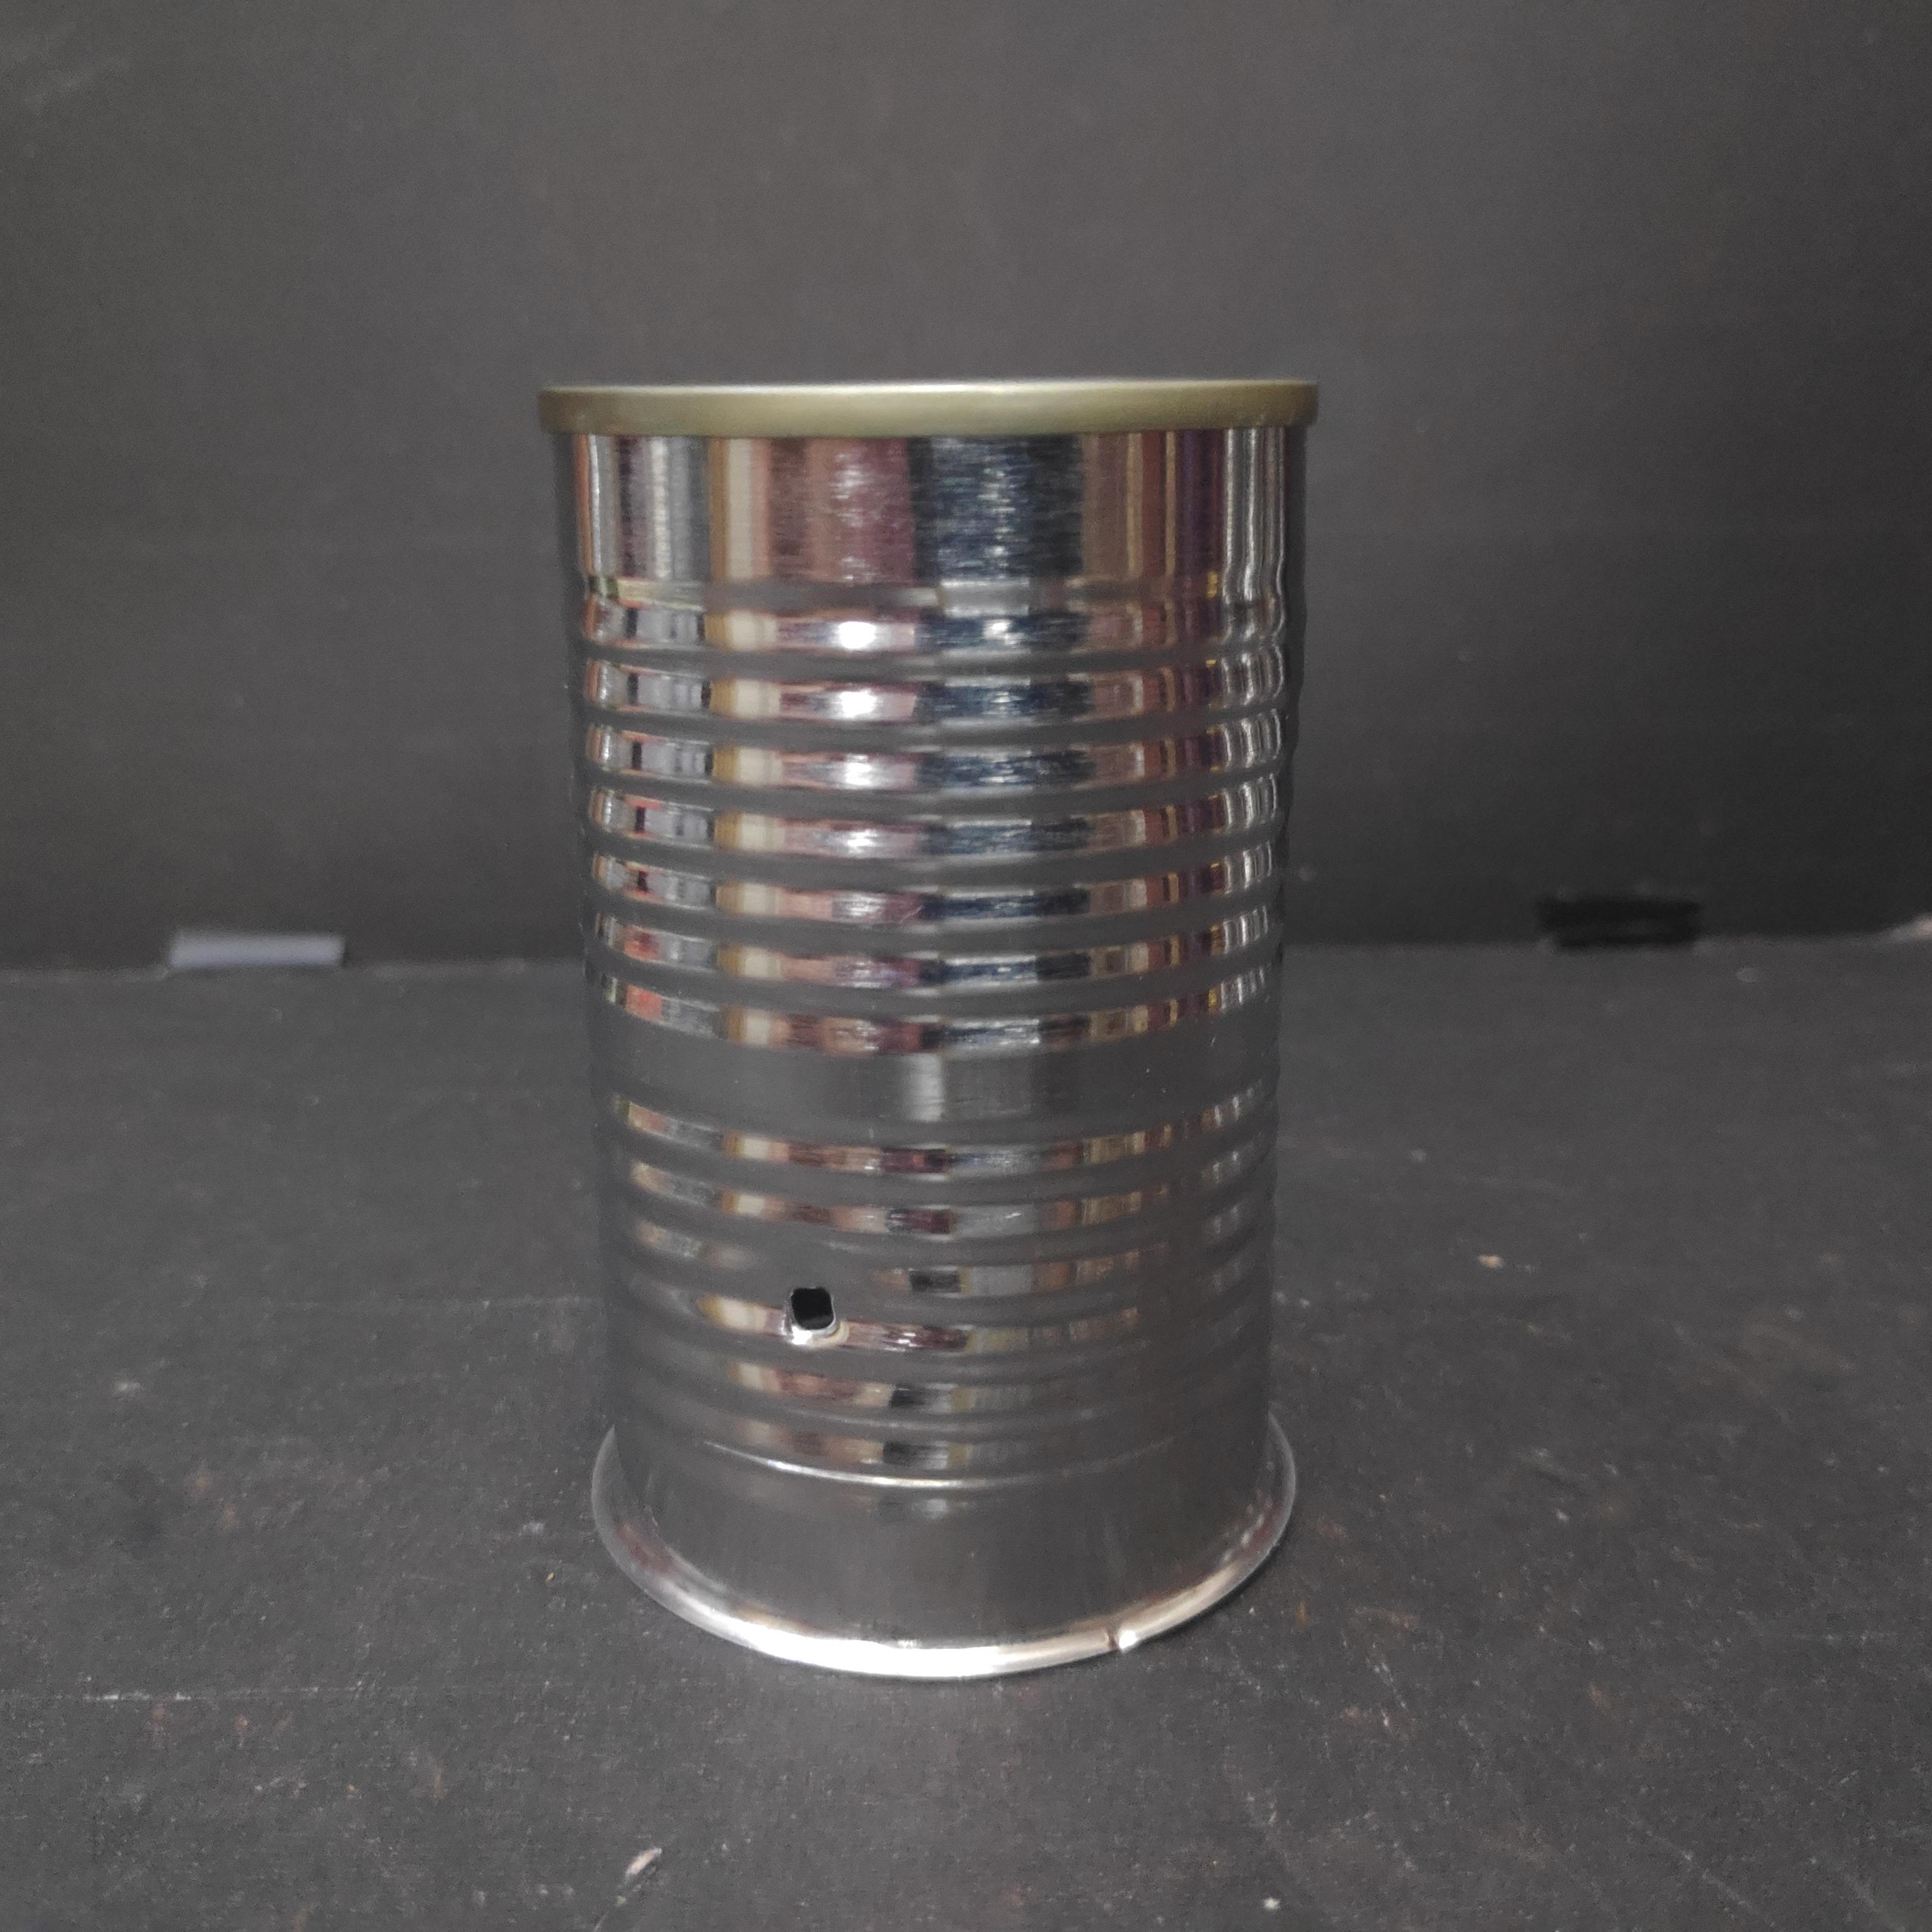Critical Defect: (529, 372, 1329, 1697)
